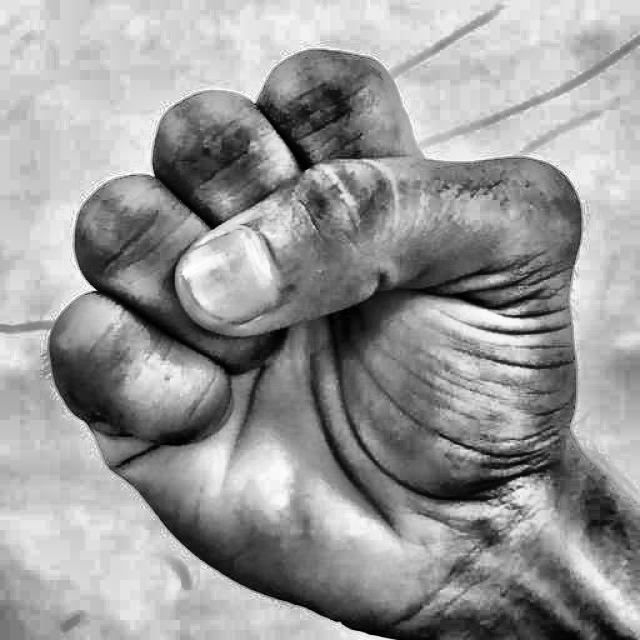Sha: (28, 27, 602, 639)
